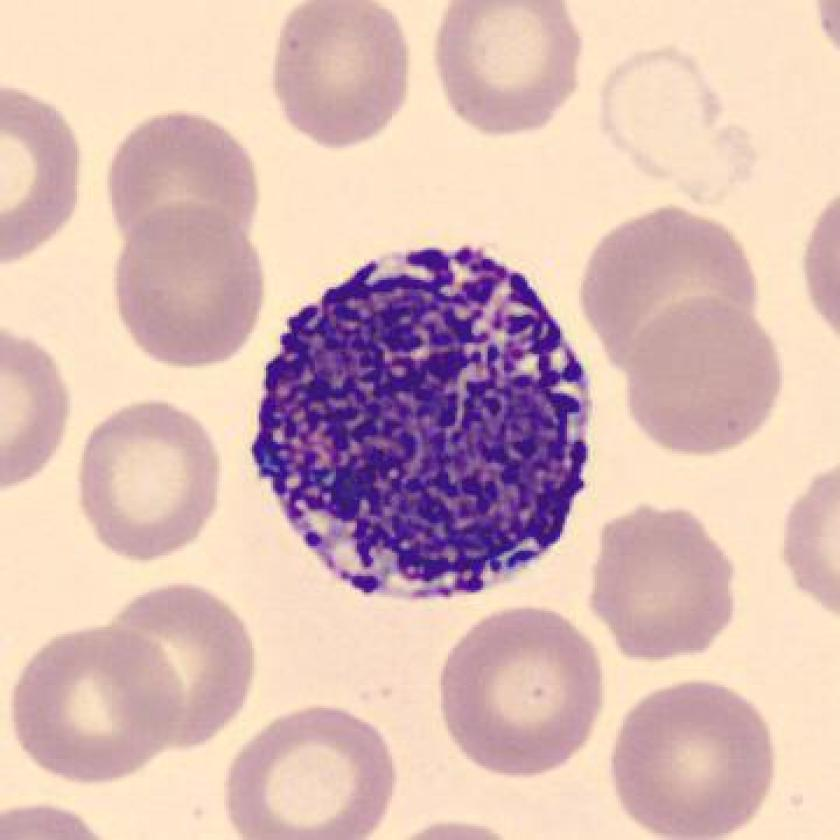basophil: (249, 235, 592, 605)
